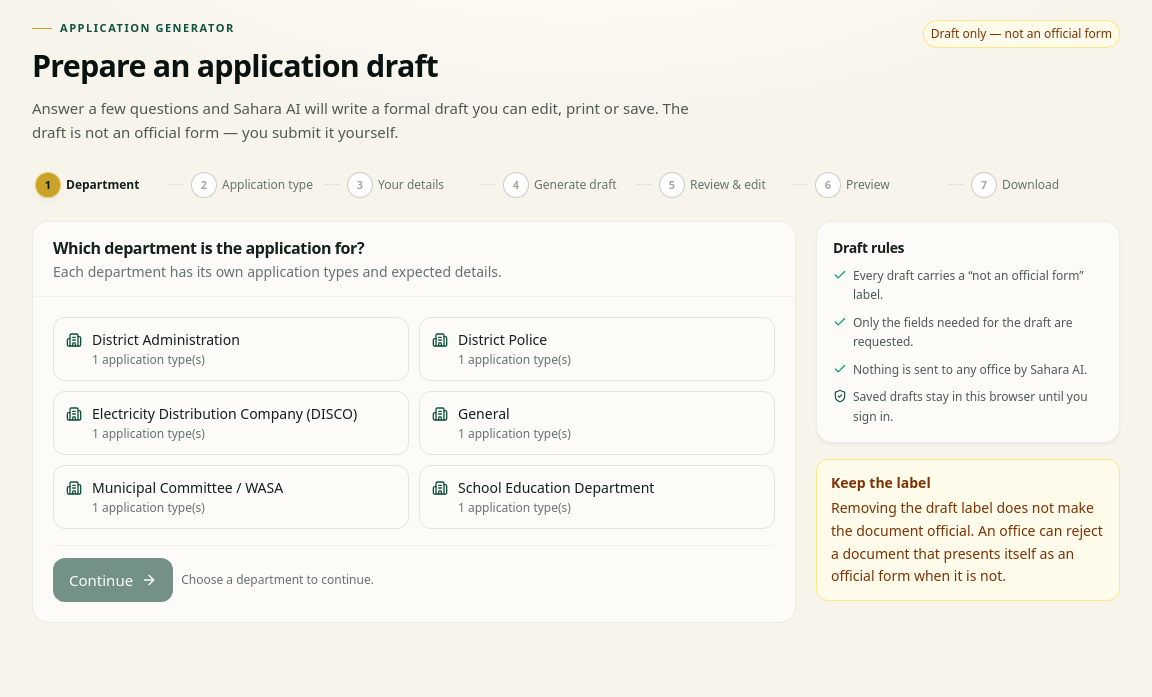
Test: Application generator › blocks step 3 until required details are supplied
Step 1. Click the button "Electricity Distribution Company" → x=231, y=423, box [53, 391, 409, 455]
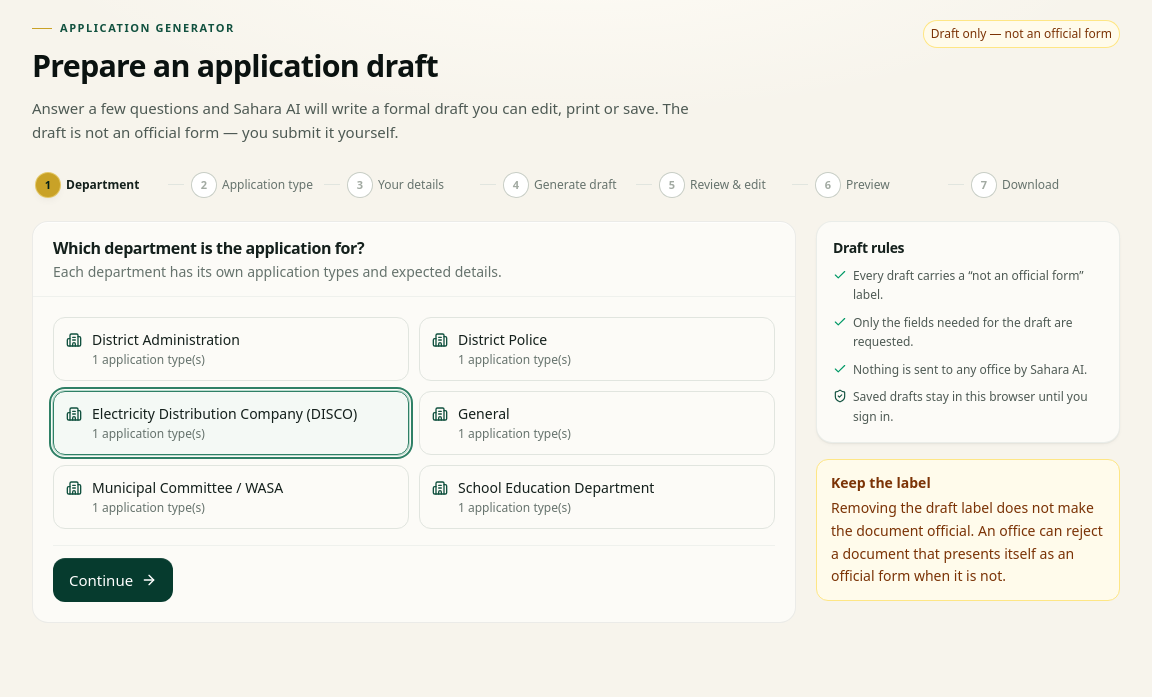
Step 2. Click the button "Continue" → x=113, y=580, box [53, 558, 173, 602]
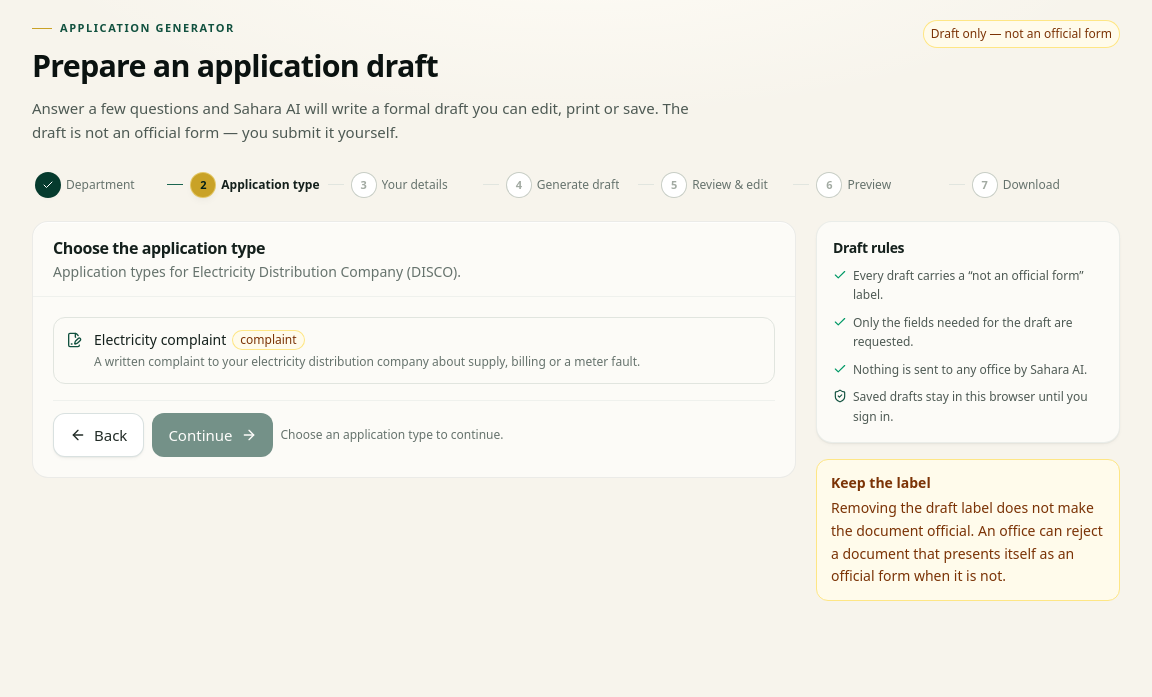
Step 3. Click the button "Electricity complaint" → x=414, y=351, box [53, 317, 775, 384]
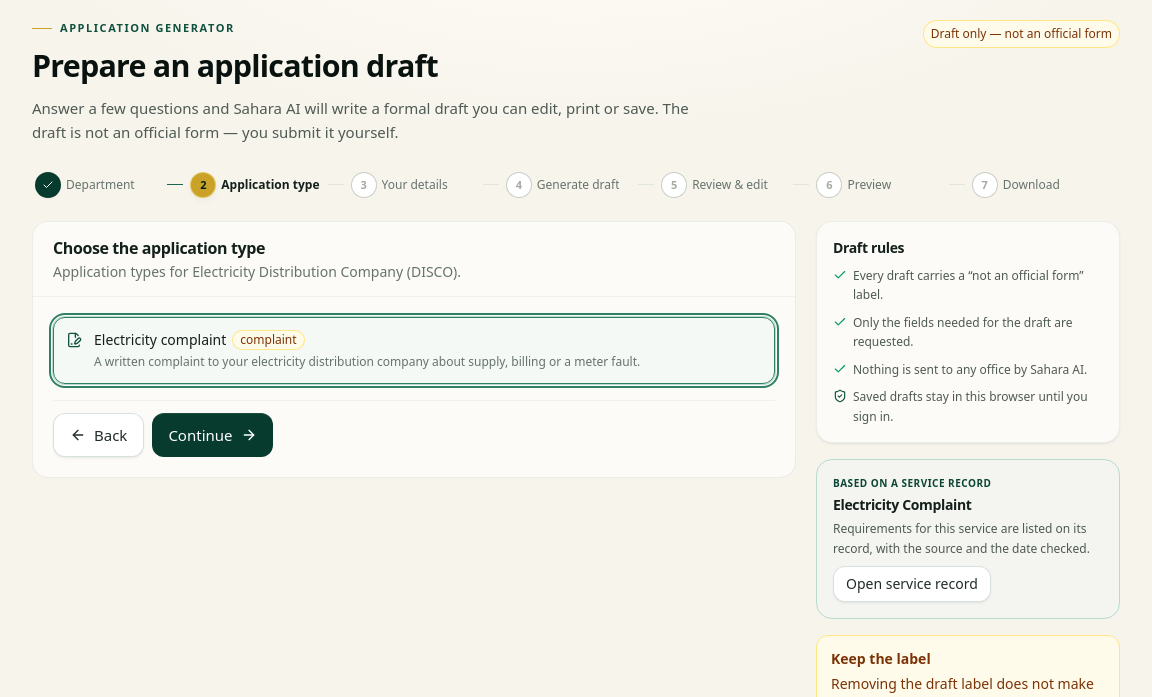
Step 4. Click the button "Continue" → x=212, y=435, box [152, 413, 272, 457]
(page scrolled)
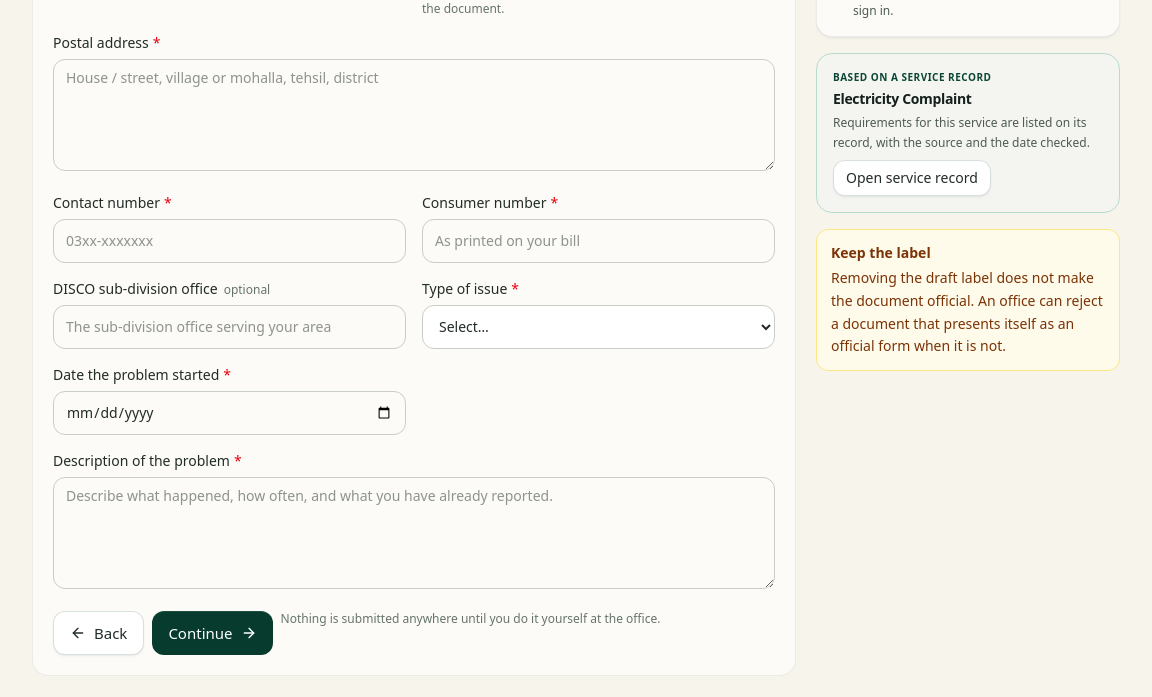
// Submit with an empty form.
Step 5. Click the button "Continue" → x=212, y=633, box [152, 611, 272, 655]
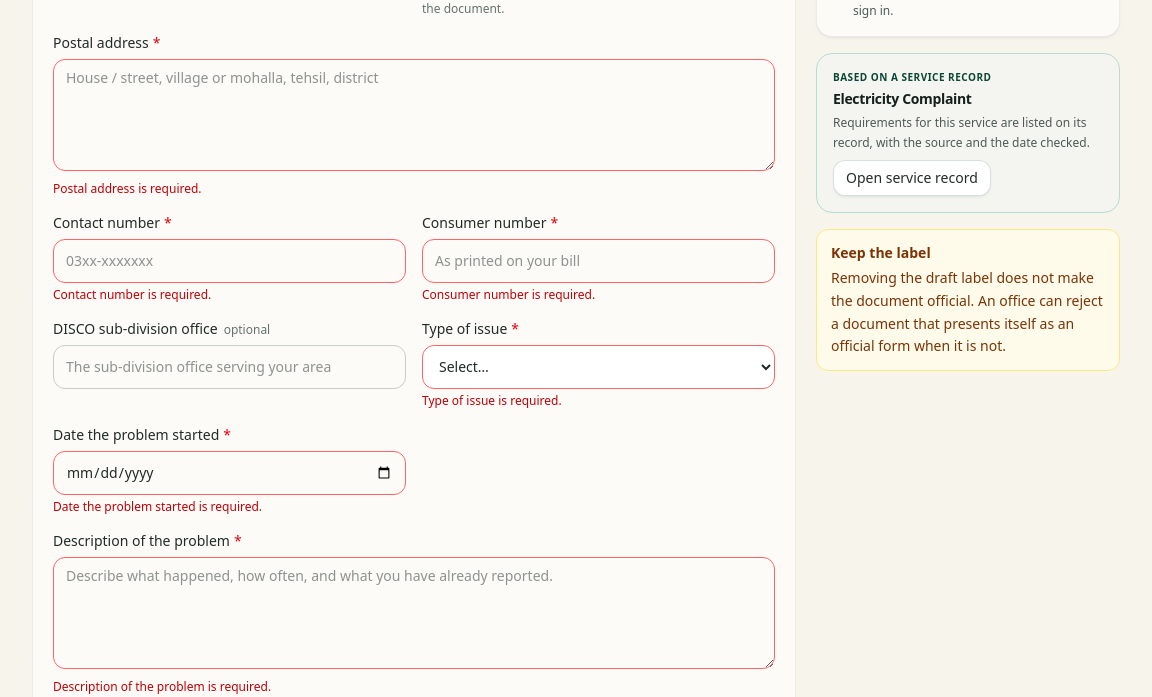
Now the text "Description of the problem is required." is shown, box [53, 678, 271, 695]
